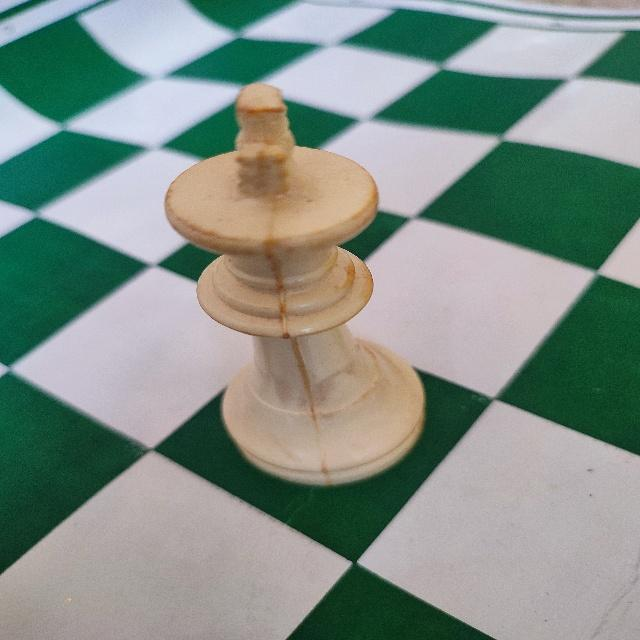King: (159, 79, 440, 493)
